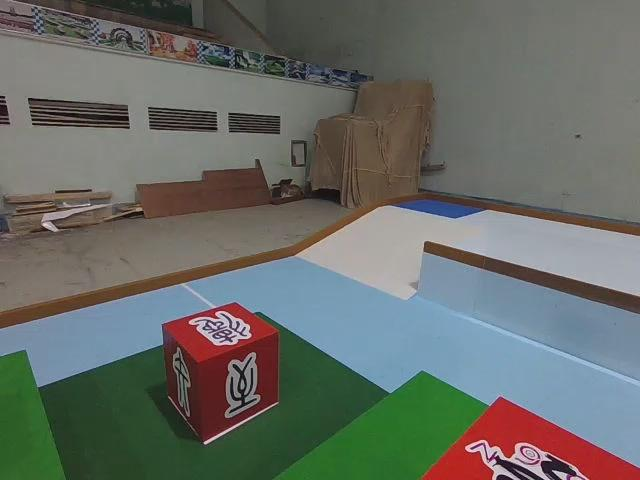R1: (412, 393, 640, 480)
R2 Fake: (163, 302, 279, 443)
